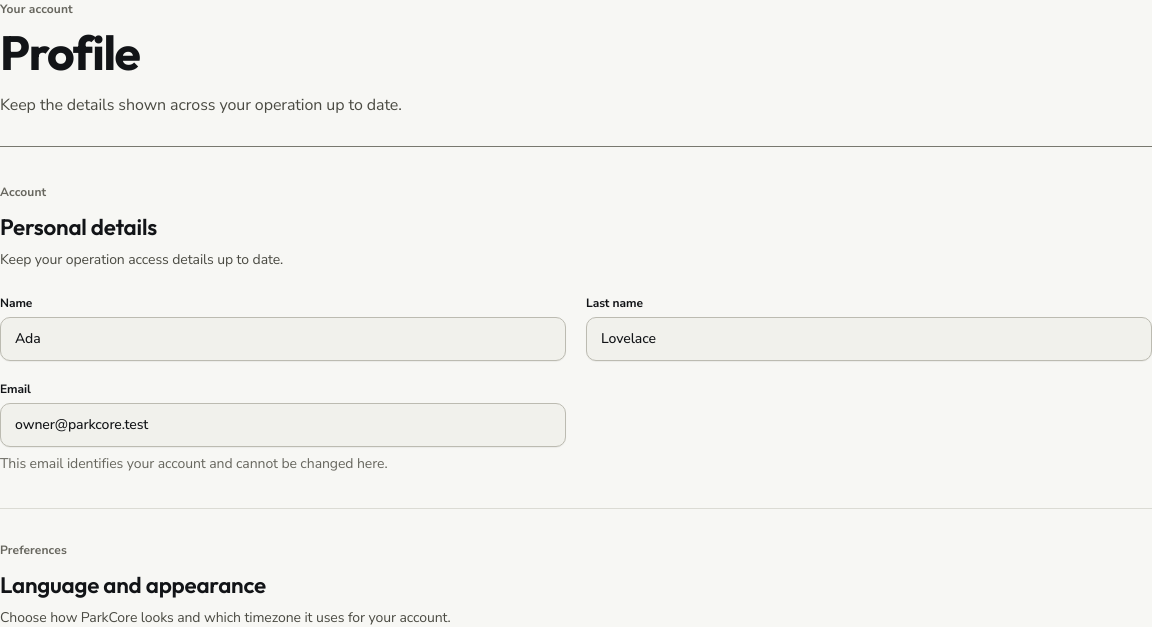
owner profile route › saves OWNER identity and timezone changes while keeping email read-only
The width and height of the screenshot is (1152, 627).
Clear the field labelled "Name" at (283, 339), box [0,317,566,361]
Type keys "Grace"
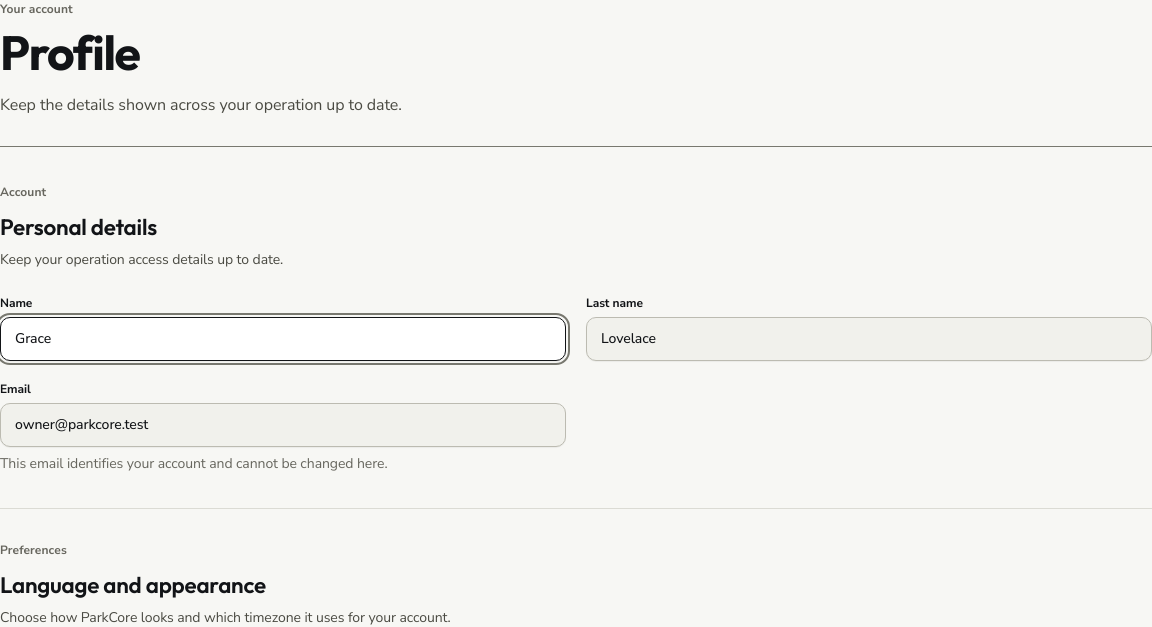
Clear the field labelled "Last name" at (869, 339), box [586,317,1151,361]
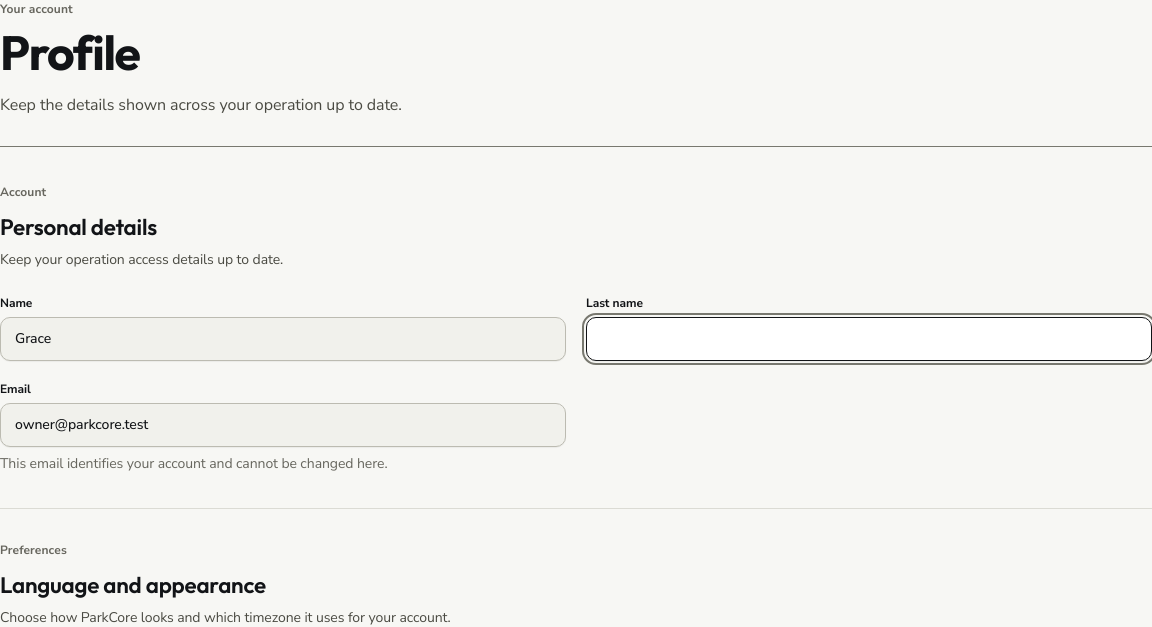
Type keys "Hopper"
(page scrolled)
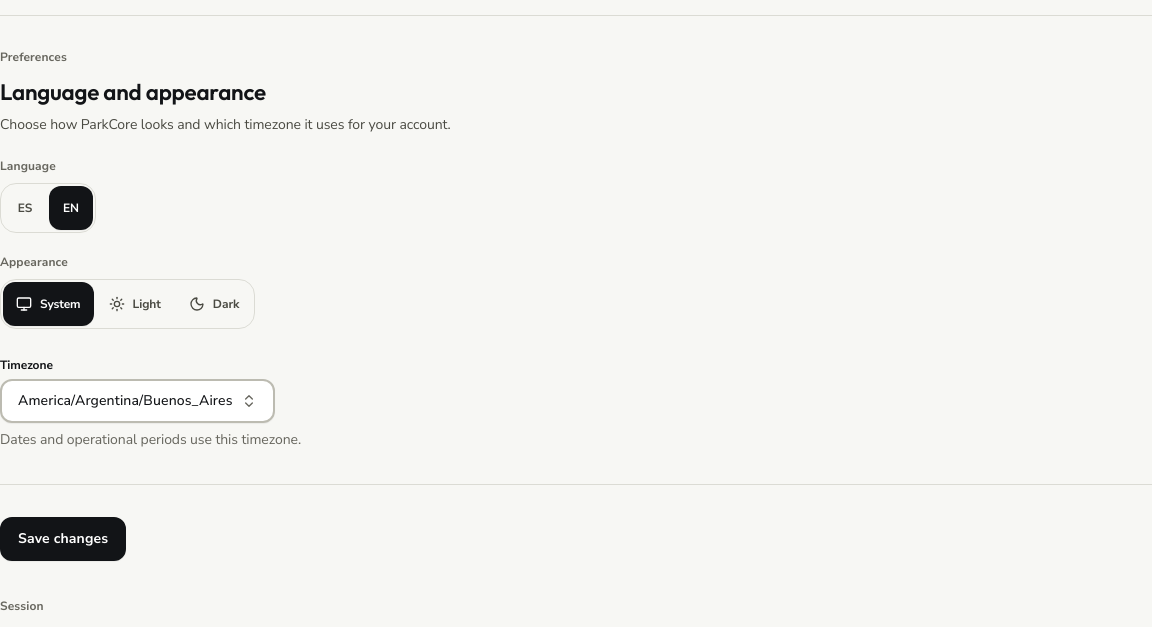
Click the dropdown named "Timezone".
click(137, 401)  # box [0,379,274,423]
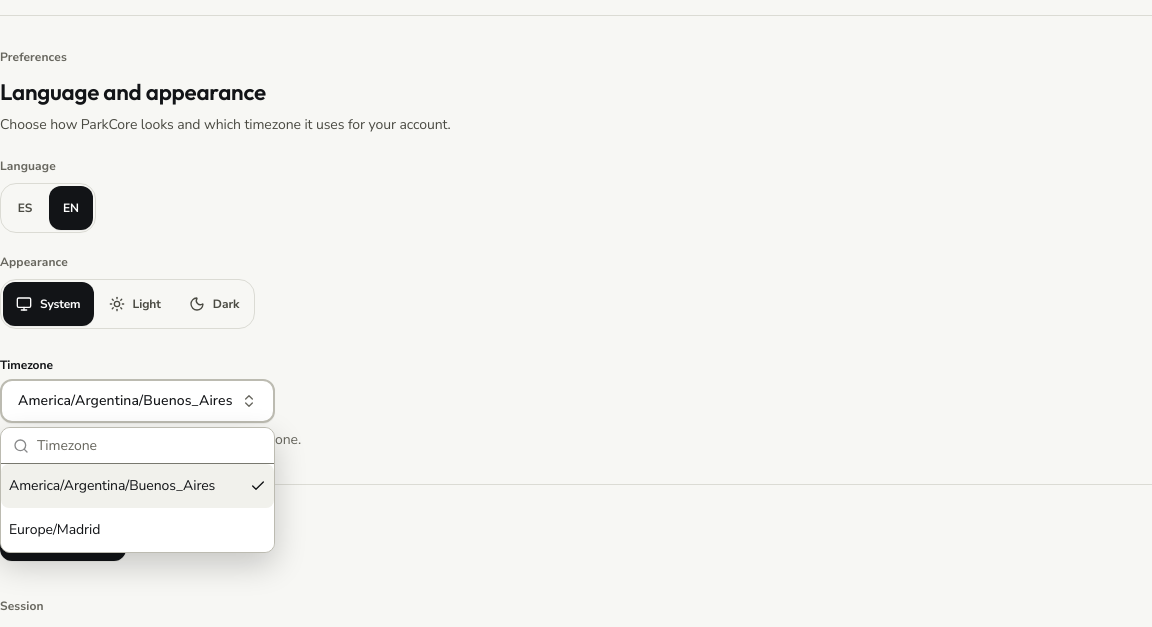
Click the option "Europe/Madrid".
click(55, 530)  # box [9,520,100,539]
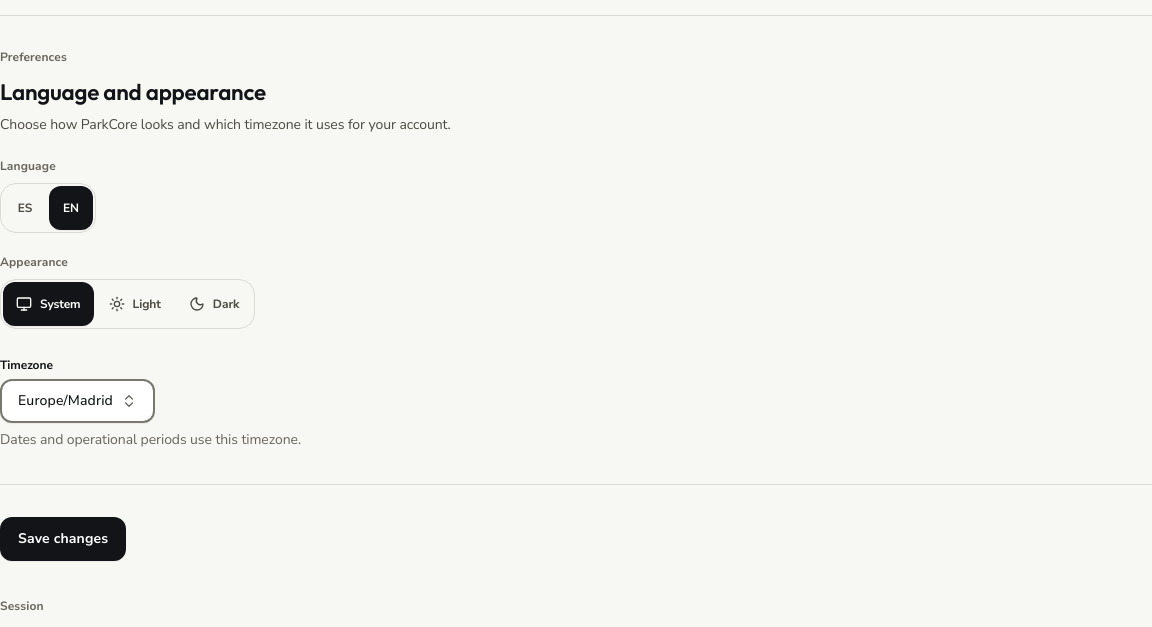
Click the button "Save changes".
click(63, 539)  # box [0,517,126,561]
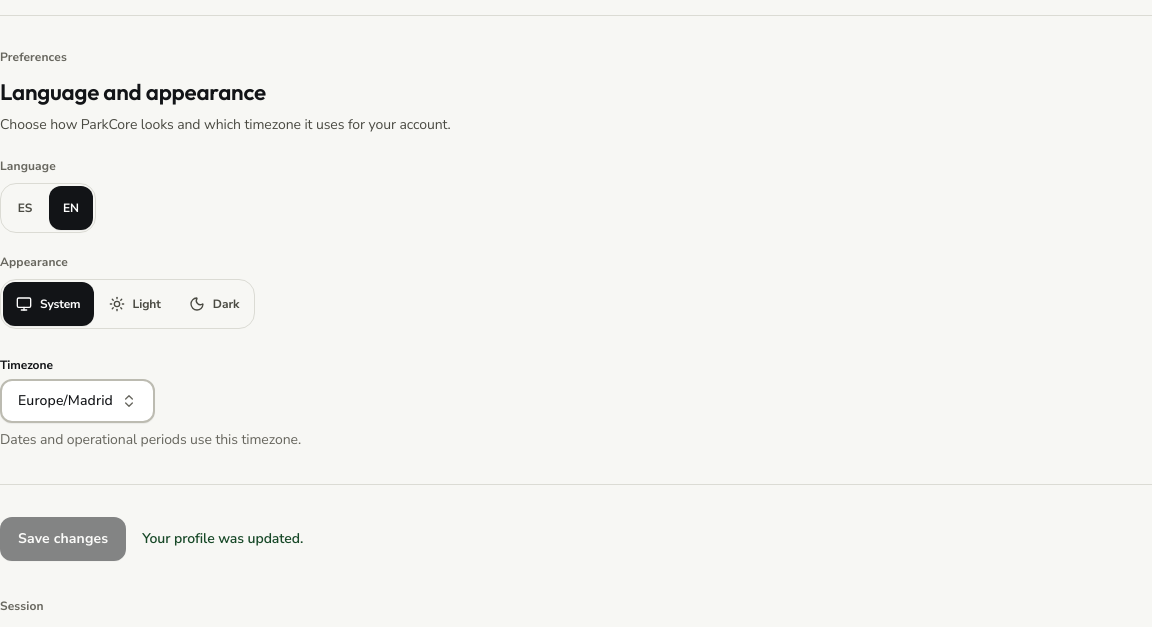
Expected: the text "Your profile was updated." is shown, [142,529,303,549]
